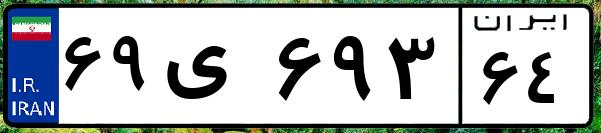3: (385, 28, 445, 110)
4: (525, 38, 570, 115)
6: (270, 28, 330, 110), (57, 26, 110, 100), (475, 38, 525, 113)
9: (330, 28, 385, 110), (110, 28, 158, 98)
ی: (158, 20, 270, 120)
